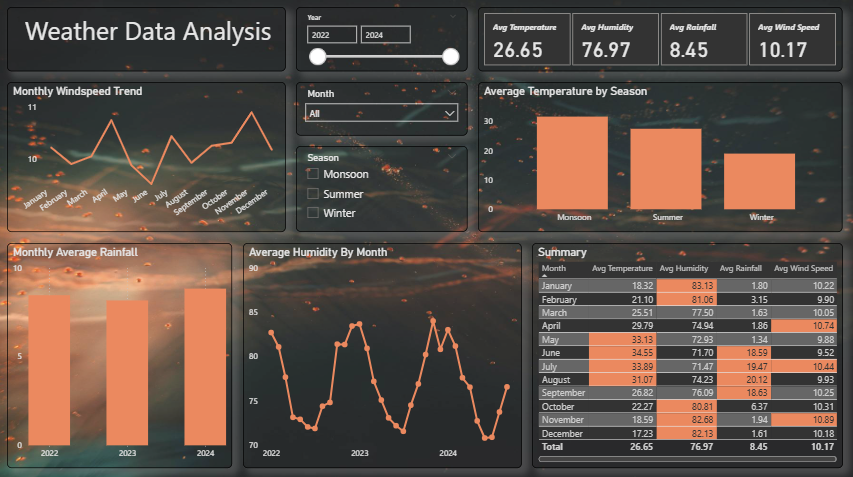

Layout of this report page (visuals, bound fields, positions):
{"tool":"powerbi","page":{"name":"Page 1","canvas":[1280,720],"ordinal":0},"visuals":[{"type":"cardVisual","fields":{"Data":["Weather Data Analysis.Avg Temperature","Weather Data Analysis.Avg Humidity","Weather Data Analysis.Avg Rainfall","Weather Data Analysis.Avg Wind Speed"]},"box":[720,16,544,96],"z":0},{"type":"textbox","box":[16,16,416,96],"z":1000},{"type":"lineChart","title":"Monthly Windspeed Trend","fields":{"Category":["Weather Data Analysis.Month_Year.Variation.Date Hierarchy.Month"],"Y":["Weather Data Analysis.Avg Wind Speed"]},"box":[16,128,416,224],"z":2000},{"type":"clusteredColumnChart","title":"Monthly Average Rainfall","fields":{"Category":["Weather Data Analysis.Month_Year.Variation.Date Hierarchy.Year","Weather Data Analysis.Month_Year.Variation.Date Hierarchy.Month"],"Y":["Weather Data Analysis.Avg Rainfall"]},"box":[16,368,336,336],"z":3000},{"type":"columnChart","title":"Average Temperature by Season","fields":{"Category":["Weather Data Analysis.Season"],"Y":["Weather Data Analysis.Avg Temperature"]},"box":[720,128,544,224],"z":4000},{"type":"lineChart","title":"Average Humidity By Month","fields":{"Y":["Weather Data Analysis.Avg Humidity"],"Category":["Weather Data Analysis.Month_Year.Variation.Date Hierarchy.Year","Weather Data Analysis.Month_Year.Variation.Date Hierarchy.Month"]},"box":[368,368,416,336],"z":5000},{"type":"tableEx","title":"Summary","fields":{"Values":["Weather Data Analysis.Month_Year.Variation.Date Hierarchy.Month","Weather Data Analysis.Avg Temperature","Weather Data Analysis.Avg Humidity","Weather Data Analysis.Avg Rainfall","Weather Data Analysis.Avg Wind Speed"]},"box":[800,368,464,336],"z":6000},{"type":"slicer","fields":{"Values":["Weather Data Analysis.Date.Variation.Date Hierarchy.Year"]},"box":[448,16,256,96],"z":7000},{"type":"slicer","fields":{"Values":["Weather Data Analysis.Date.Variation.Date Hierarchy.Month"]},"box":[448,128,256,80],"z":8000},{"type":"slicer","fields":{"Values":["Weather Data Analysis.Season"]},"box":[448,224,256,128],"z":9000}]}

Visuals, with their boxes in screenshot pixels (x1, y1, x2, y2), scaled from the page's 1280x720 canvas onto the 853x477 screenshot:
cardVisual - Weather Data Analysis.Avg Temperature x Weather Data Analysis.Avg Humidity: <region>480, 11, 842, 74</region>
textbox: <region>11, 11, 288, 74</region>
"Monthly Windspeed Trend" lineChart: <region>11, 85, 288, 233</region>
"Monthly Average Rainfall" clusteredColumnChart: <region>11, 244, 235, 466</region>
"Average Temperature by Season" columnChart: <region>480, 85, 842, 233</region>
"Average Humidity By Month" lineChart: <region>245, 244, 522, 466</region>
"Summary" tableEx: <region>533, 244, 842, 466</region>
slicer - Weather Data Analysis.Date.Variation.Date Hierarchy.Year: <region>299, 11, 469, 74</region>
slicer - Weather Data Analysis.Date.Variation.Date Hierarchy.Month: <region>299, 85, 469, 138</region>
slicer - Weather Data Analysis.Season: <region>299, 148, 469, 233</region>
